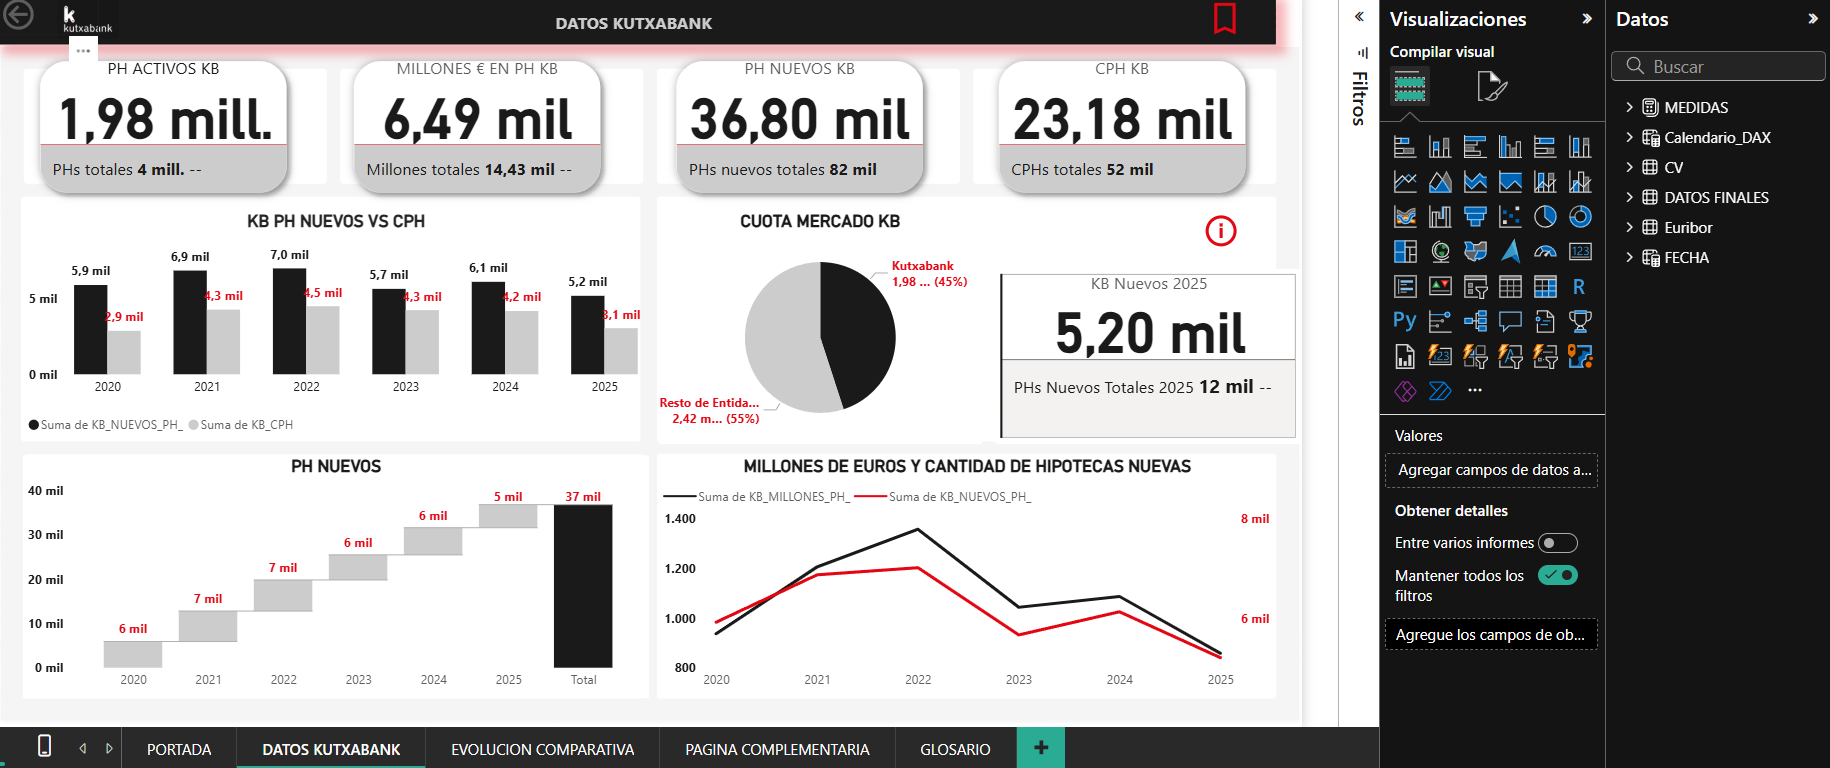

The page's visual inventory and layout, read from the dashboard file:
{"tool":"powerbi","page":{"name":"DATOS KUTXABANK","canvas":[1280,720],"ordinal":1},"visuals":[{"type":"shape","box":[0,0,1254.2,49.4],"z":0},{"type":"image","box":[24.7,0,127.6,49.4],"z":1000},{"type":"cardVisual","title":"DFGF","fields":{"Data":["Sum(DATOS FINALES.KB_ACTIVOS_PH)"]},"box":[24.5,49.1,276.1,163.2],"z":2000},{"type":"clusteredColumnChart","title":"KB PH NUEVOS VS CPH","fields":{"Category":["DATOS FINALES.FECHA.Variación.Jerarquía de fechas.Año","DATOS FINALES.FECHA.Variación.Jerarquía de fechas.Trimestre","DATOS FINALES.FECHA.Variación.Jerarquía de fechas.Mes","DATOS FINALES.FECHA.Variación.Jerarquía de fechas.Día"],"Y":["Sum(DATOS FINALES.KB_NUEVOS_PH_)","Sum(DATOS FINALES.KB_CPH)"]},"box":[24,212.3,615,229],"z":3000},{"type":"waterfallChart","title":"PH NUEVOS","fields":{"Y":["Sum(DATOS FINALES.KB_NUEVOS_PH_)"],"Category":["DATOS FINALES.FECHA.Variación.Jerarquía de fechas.Año","DATOS FINALES.FECHA.Variación.Jerarquía de fechas.Trimestre","DATOS FINALES.FECHA.Variación.Jerarquía de fechas.Mes","DATOS FINALES.FECHA.Variación.Jerarquía de fechas.Día"]},"box":[24.7,452.8,614.8,238.8],"z":4000},{"type":"lineChart","title":"MILLONES DE EUROS Y CANTIDAD DE HIPOTECAS NUEVAS","fields":{"Category":["DATOS FINALES.FECHA.Variación.Jerarquía de fechas.Año","DATOS FINALES.FECHA.Variación.Jerarquía de fechas.Trimestre","DATOS FINALES.FECHA.Variación.Jerarquía de fechas.Mes","DATOS FINALES.FECHA.Variación.Jerarquía de fechas.Día"],"Y":["Sum(DATOS FINALES.KB_MILLONES_PH_)"],"Y2":["Sum(DATOS FINALES.KB_NUEVOS_PH_)"]},"box":[649.1,452.8,605.1,238.8],"z":5000},{"type":"pieChart","title":"CUOTA MERCADO KB","fields":{"Y":["MEDIDAS.#KB_ACTIVOS","MEDIDAS.Activos Otros"]},"box":[649.1,212.3,316.6,229.4],"z":6000},{"type":"cardVisual","fields":{"Data":["Sum(DATOS FINALES.KB_MILLONES_PH_)"]},"box":[332.5,49.1,276.1,163.2],"z":7000},{"type":"cardVisual","fields":{"Data":["Sum(DATOS FINALES.KB_NUEVOS_PH_)"]},"box":[649.1,49.1,276.1,163.2],"z":8000},{"type":"cardVisual","fields":{"Data":["Sum(DATOS FINALES.KB_CPH)"]},"box":[965.6,49.1,276.1,163.2],"z":9000},{"type":"actionButton","box":[1154.6,3.7,99.4,40.5],"z":10000},{"type":"textbox","box":[542.3,12.3,347.2,31.9],"z":11000},{"type":"actionButton","box":[1180.4,212.3,99.4,40.5],"z":12000},{"type":"cardVisual","fields":{"Data":["MEDIDAS.KB Nuevos 2025"]},"box":[979.1,269.9,300.6,171.8],"z":12001},{"type":"actionButton","box":[0,0,100,40],"z":12002}]}

Visuals, with their boxes on the page's 1280x720 design canvas (x1, y1, x2, y2). These are canvas units, not pixel positions in the 1830x768 screenshot, which may show the page scaled, cropped or inside an application window:
shape: [x1=0, y1=0, x2=1254, y2=49]
image: [x1=25, y1=0, x2=152, y2=49]
"DFGF" cardVisual: [x1=24, y1=49, x2=301, y2=212]
"KB PH NUEVOS VS CPH" clusteredColumnChart: [x1=24, y1=212, x2=639, y2=441]
"PH NUEVOS" waterfallChart: [x1=25, y1=453, x2=640, y2=692]
"MILLONES DE EUROS Y CANTIDAD DE HIPOTECAS NUEVAS" lineChart: [x1=649, y1=453, x2=1254, y2=692]
"CUOTA MERCADO KB" pieChart: [x1=649, y1=212, x2=966, y2=442]
cardVisual - Sum(DATOS FINALES.KB_MILLONES_PH_): [x1=332, y1=49, x2=609, y2=212]
cardVisual - Sum(DATOS FINALES.KB_NUEVOS_PH_): [x1=649, y1=49, x2=925, y2=212]
cardVisual - Sum(DATOS FINALES.KB_CPH): [x1=966, y1=49, x2=1242, y2=212]
actionButton: [x1=1155, y1=4, x2=1254, y2=44]
textbox: [x1=542, y1=12, x2=890, y2=44]
actionButton: [x1=1180, y1=212, x2=1280, y2=253]
cardVisual - MEDIDAS.KB Nuevos 2025: [x1=979, y1=270, x2=1280, y2=442]
actionButton: [x1=0, y1=0, x2=100, y2=40]
